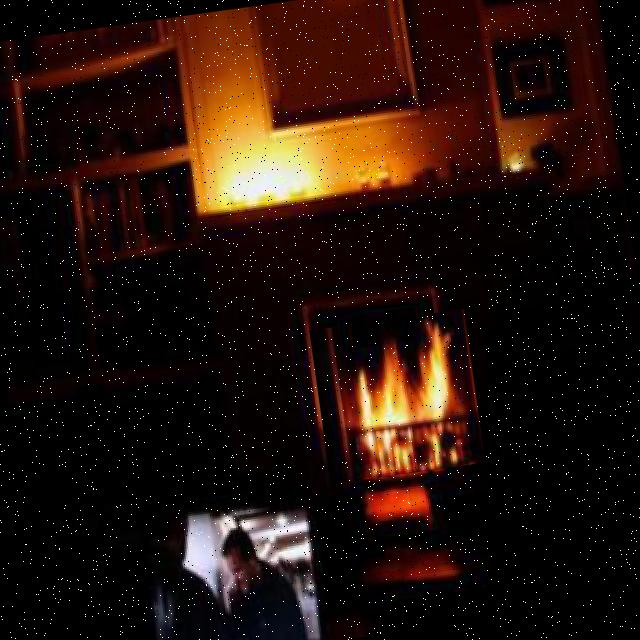fire: (310, 309, 486, 484)
